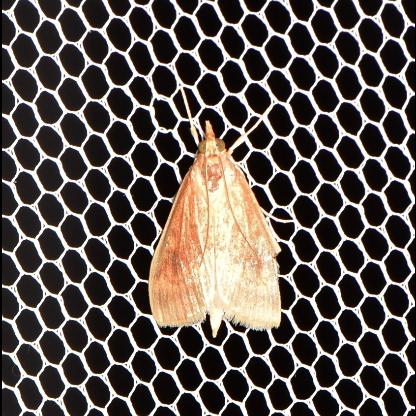Asian Corn Borer Moth: (144, 102, 298, 340)
